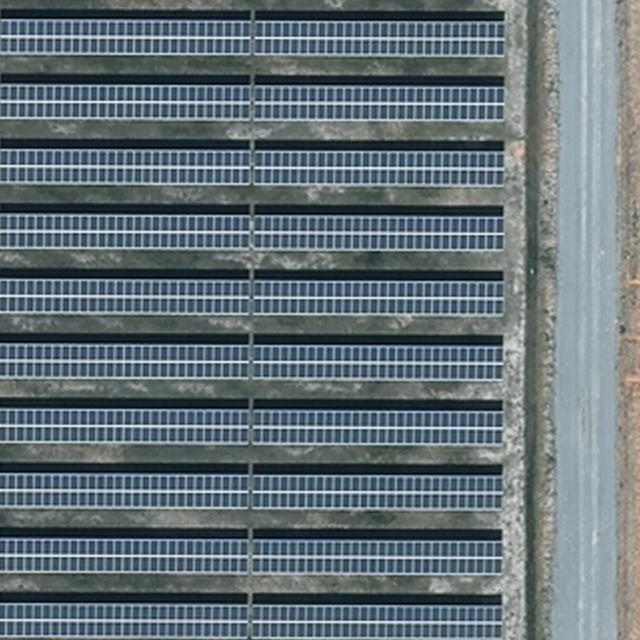panel: (253, 278, 507, 319), (253, 18, 506, 59), (250, 150, 506, 190), (251, 407, 505, 447), (1, 17, 253, 57), (250, 472, 502, 512), (251, 83, 506, 122), (251, 535, 504, 574), (250, 344, 503, 383), (0, 213, 252, 252), (0, 82, 252, 121), (254, 213, 506, 252), (1, 407, 250, 446), (1, 148, 253, 186), (0, 278, 250, 316), (1, 601, 250, 639), (0, 342, 248, 380), (3, 537, 251, 575), (1, 472, 250, 509), (250, 604, 504, 640)
